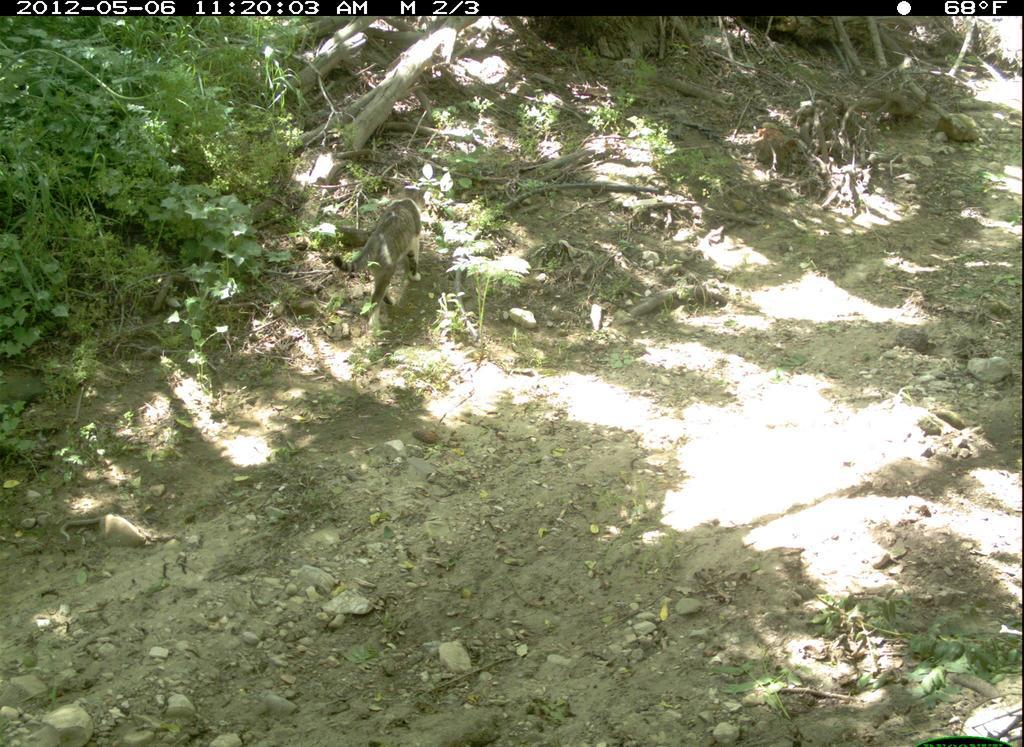cat: (327, 171, 432, 346)
